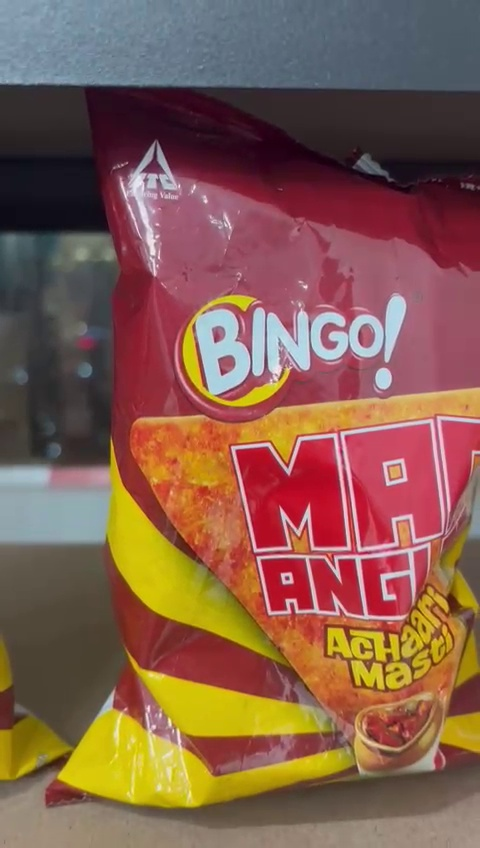Bingo Mad Angles: (89, 100, 480, 804)
